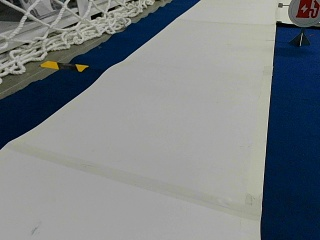battery: (288, 0, 320, 26)
